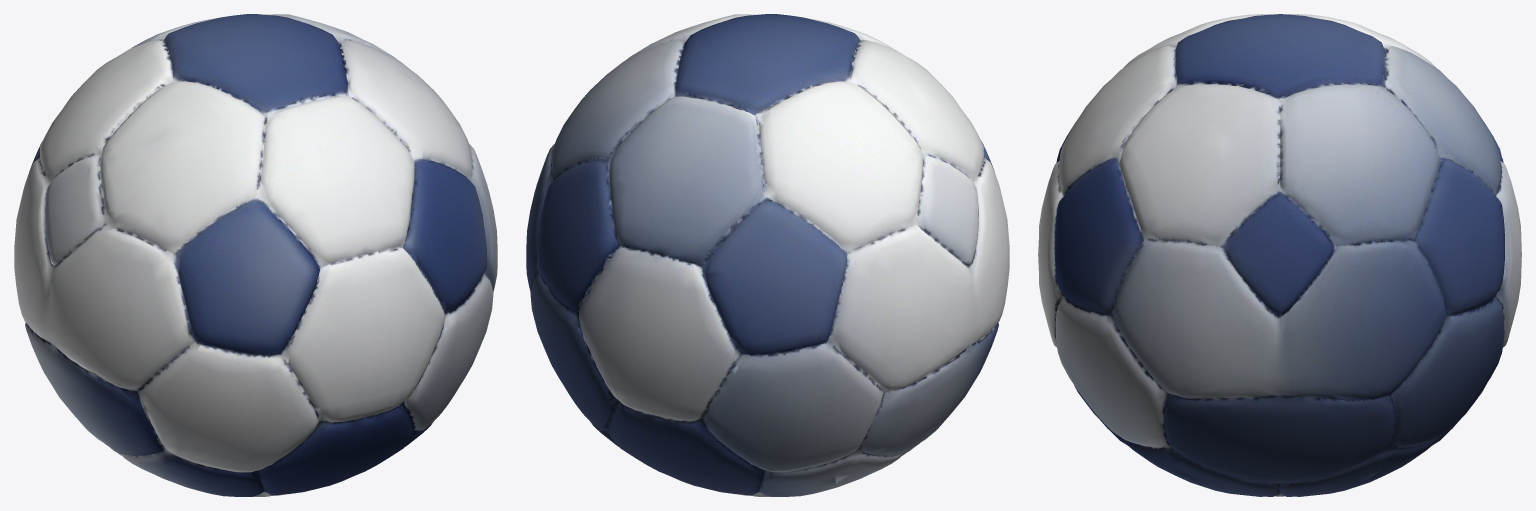
The model's file is soccer-ball.glb.
The picture shows the model from 3 angles, left to right: view 1: azimuth 30°, elevation 25°; view 2: azimuth 150°, elevation 25°; view 3: azimuth 270°, elevation 25°; orthographic projection.
Visible parts, largest first — view 1: tripo_node_664b53fe-8b6d-48ff-a4c6-5bc26f519c8d; view 2: tripo_node_664b53fe-8b6d-48ff-a4c6-5bc26f519c8d; view 3: tripo_node_664b53fe-8b6d-48ff-a4c6-5bc26f519c8d.
Boxes of the visible parts, left/top/right/bottom form: tripo_node_664b53fe-8b6d-48ff-a4c6-5bc26f519c8d: left=14, top=14, right=497, bottom=496; tripo_node_664b53fe-8b6d-48ff-a4c6-5bc26f519c8d: left=526, top=14, right=1009, bottom=496; tripo_node_664b53fe-8b6d-48ff-a4c6-5bc26f519c8d: left=1038, top=14, right=1521, bottom=496.
Bounding box in the file's own units: 0.9982 × 0.9982 × 0.9982.
Materials: 1 (1 with a texture image).
